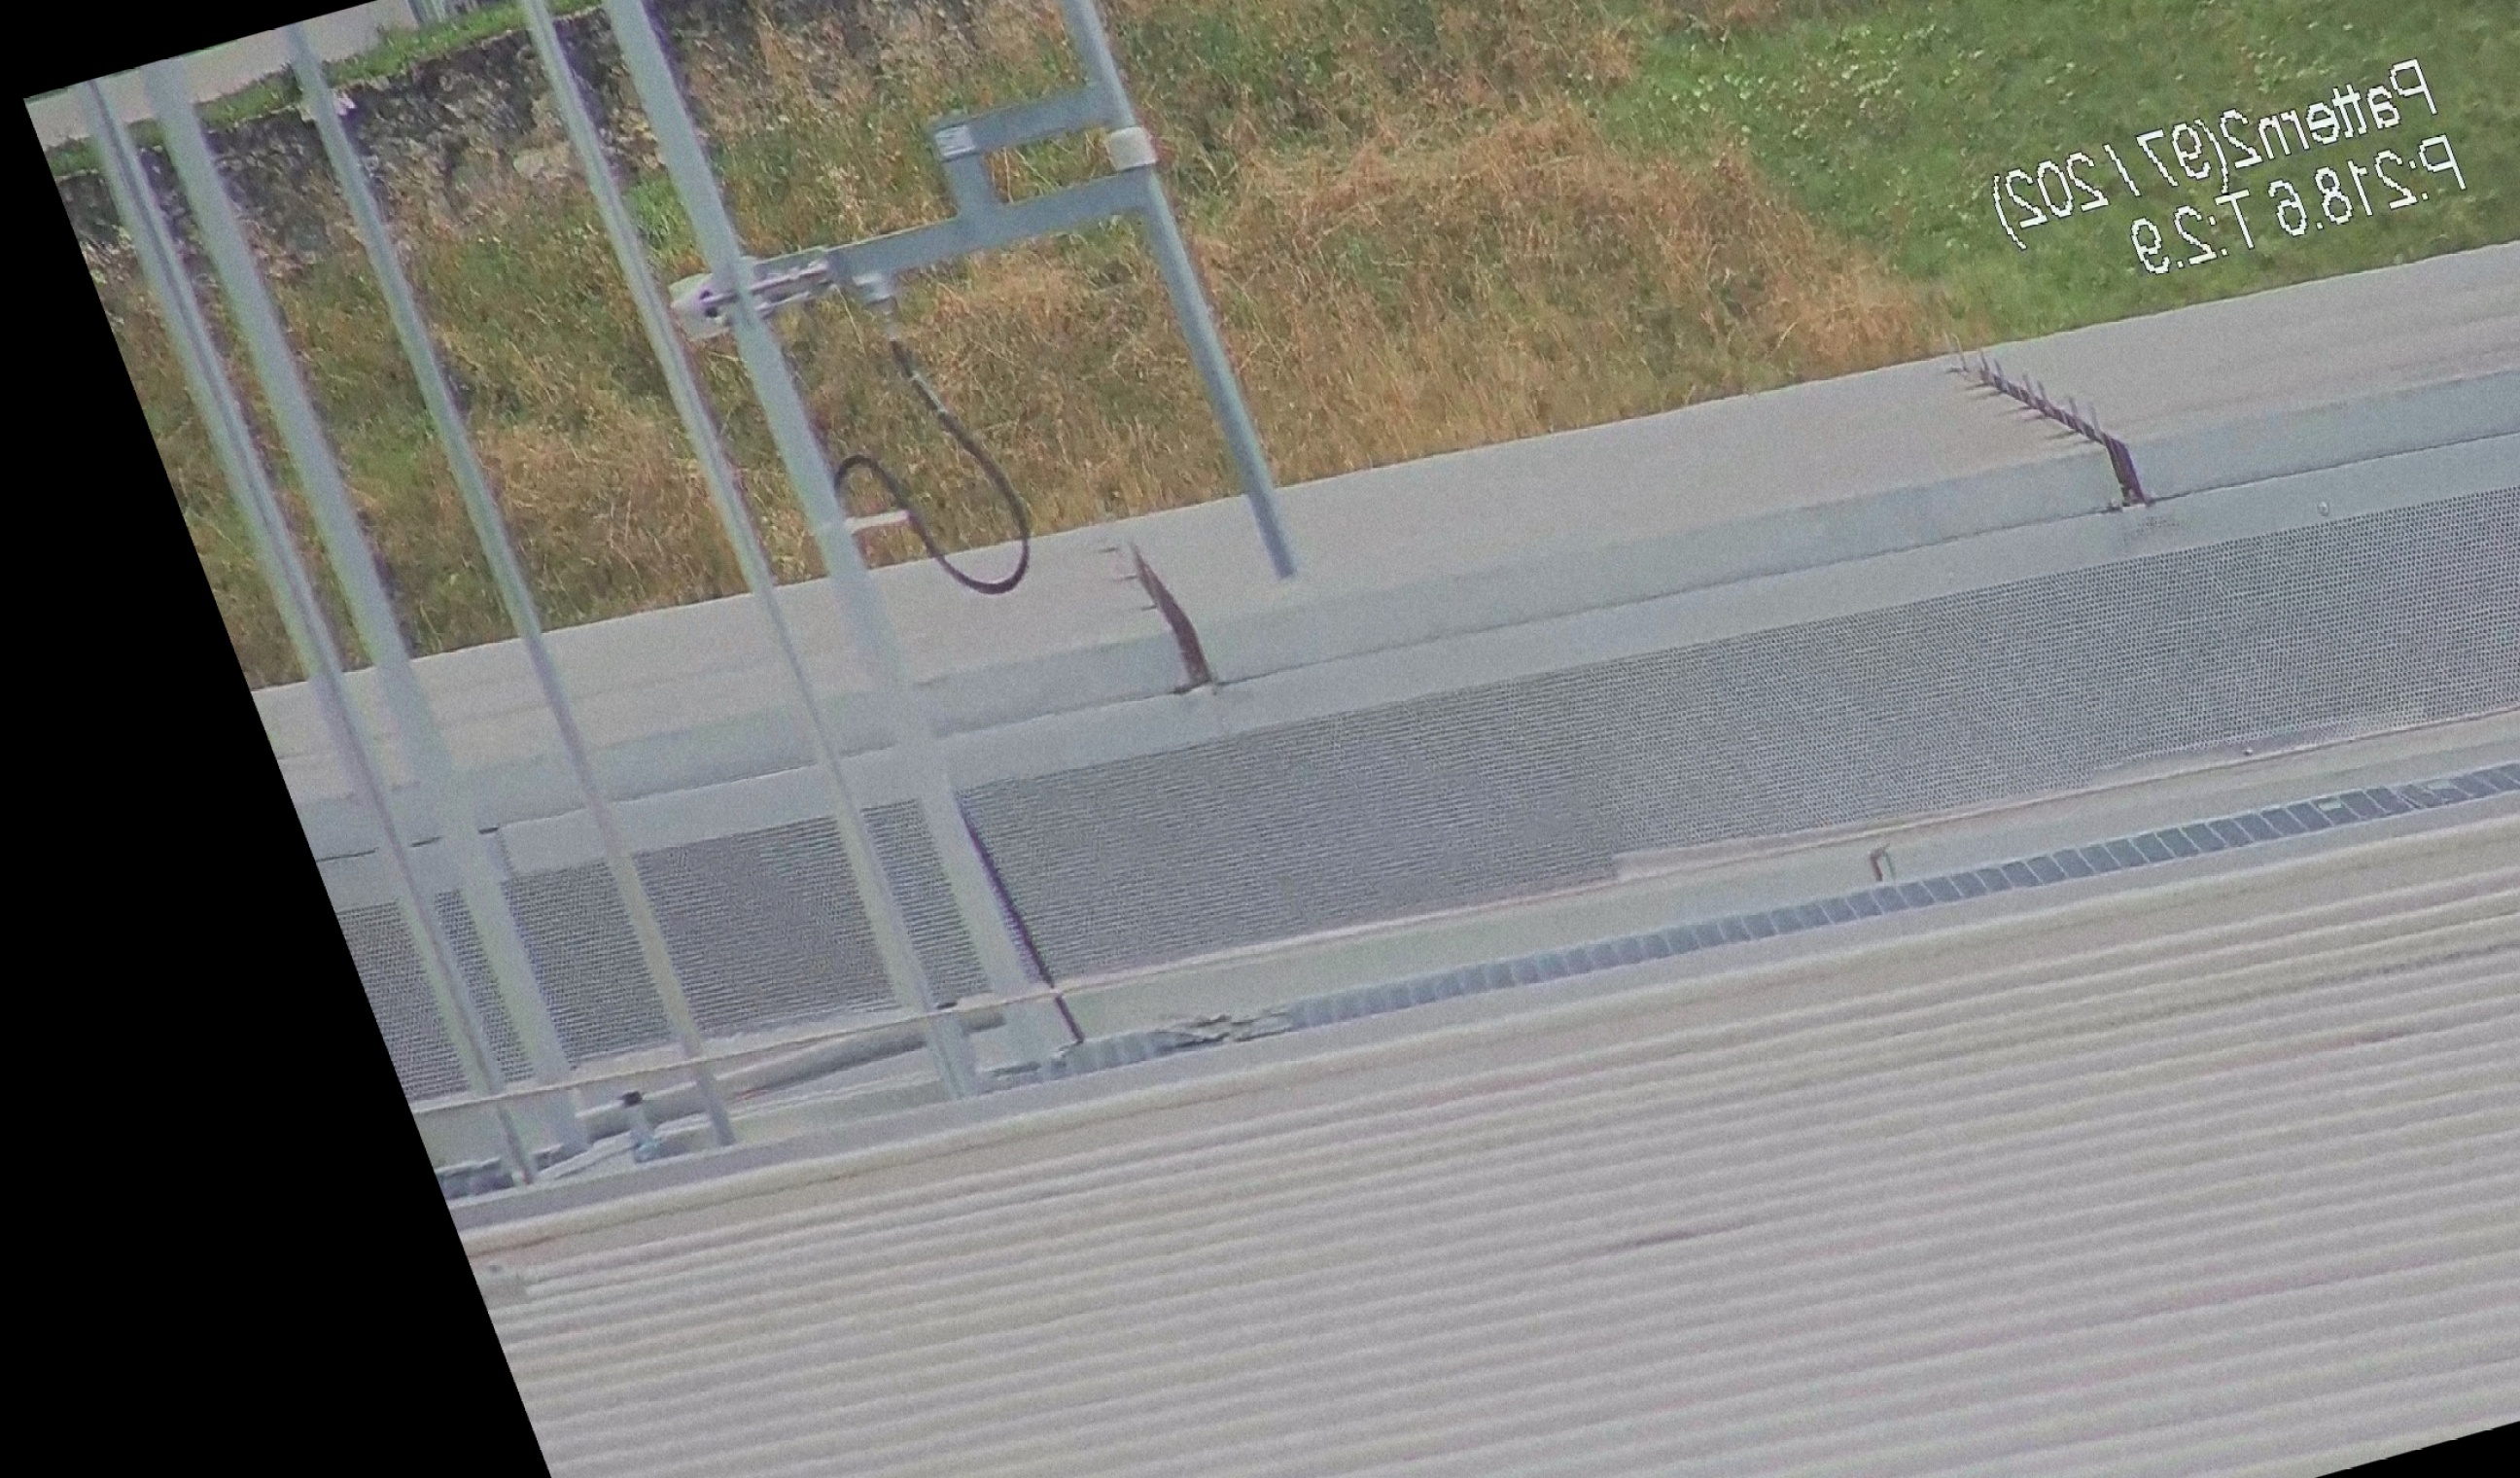Other: (1085, 512, 1222, 707)
